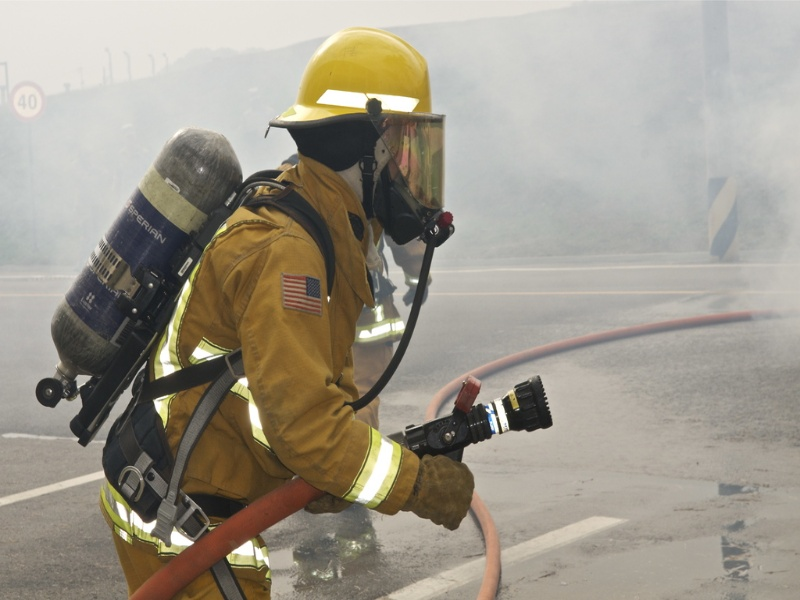Baret: (280, 25, 440, 124)
